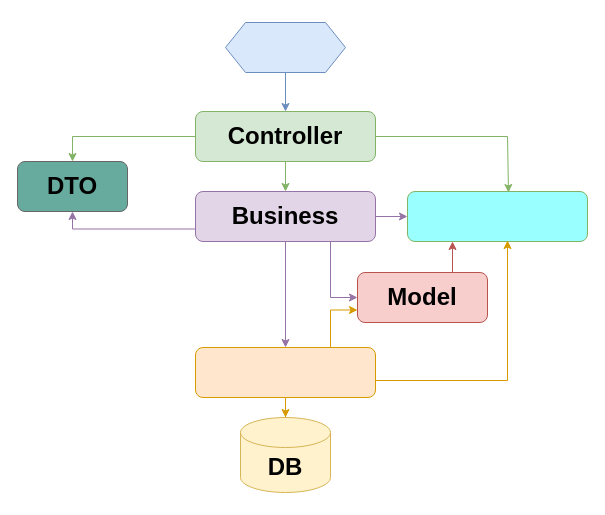
Image size: 605x515. Some labels were removed from this diagram. Each missing label, with the box of its shape:
Clients: (224, 22, 346, 72)
Commons: (406, 190, 588, 242)
DAO: (194, 346, 376, 398)
